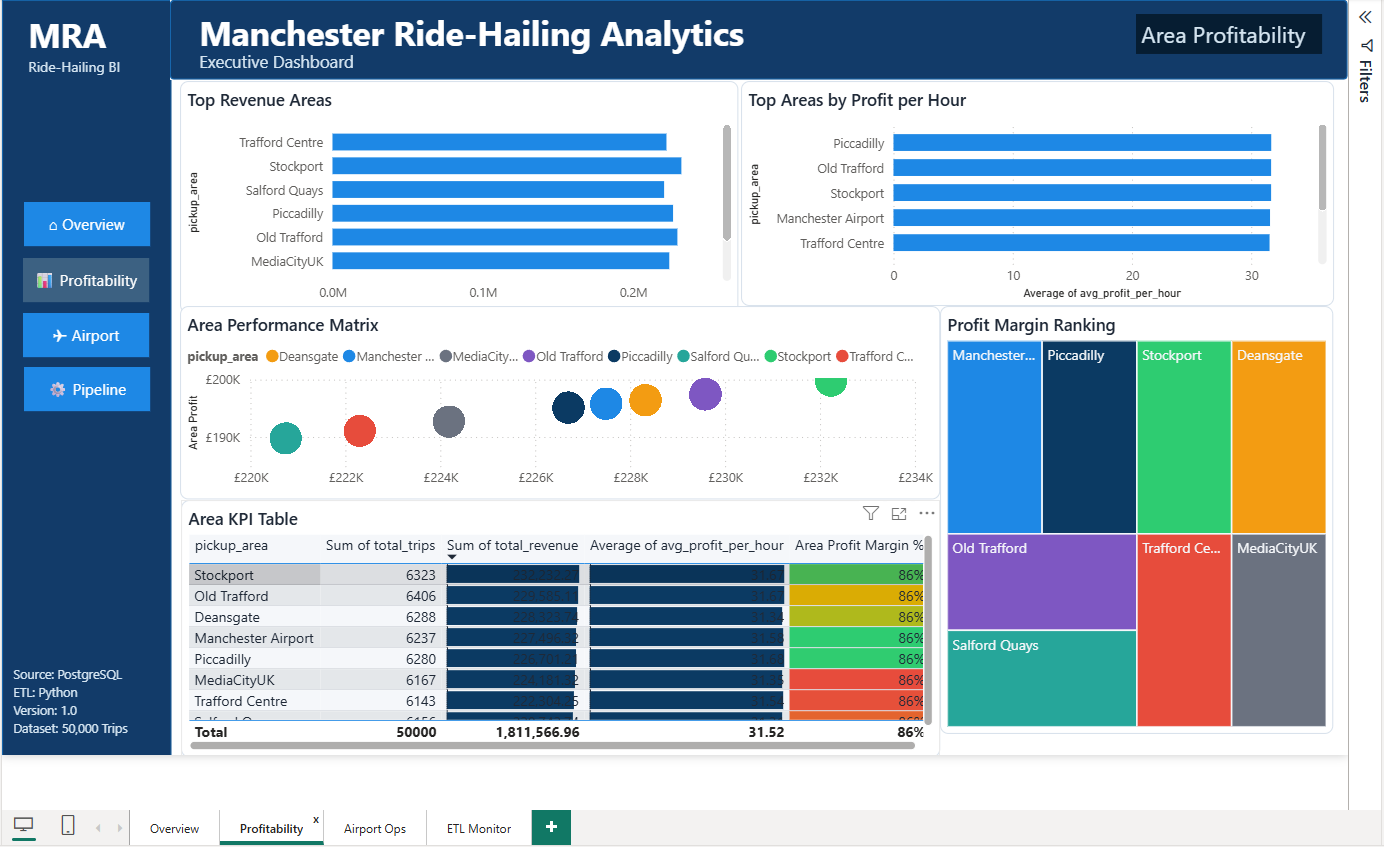

The dashboard page shown, as its layout file describes it:
{"tool":"powerbi","page":{"name":"Profitability","canvas":[1280,720],"ordinal":1},"visuals":[{"type":"shape","title":"Sidebar","box":[-0.3,1.8,161.3,719.5],"z":0,"group":"g1"},{"type":"group","id":"g1","title":"Branding","box":[-0.3,1.8,1280,719.5],"z":0},{"type":"actionButton","title":"Button 4","box":[21.1,350.3,119.5,41.7],"z":0,"group":"g2"},{"type":"shape","title":"Header","box":[159.8,1.8,1119.9,75.6],"z":1000,"group":"g1"},{"type":"group","id":"g2","title":"Navigation","box":[20,193.5,120.7,198.5],"z":1000},{"type":"actionButton","title":"Button 1","box":[21.1,193.5,119.5,41.7],"z":1000,"group":"g2"},{"type":"textbox","title":"Logo","box":[20,7.4,110.5,54.1],"z":2000,"group":"g1"},{"type":"clusteredBarChart","title":"Top Revenue Areas","fields":{"Category":["public vw_area_profitability.pickup_area"],"Y":["Sum(public vw_area_profitability.total_revenue)"]},"box":[169.2,78.9,531.2,221],"z":2000},{"type":"actionButton","title":"Button 2","box":[20,246.5,119.5,41.7],"z":2000,"group":"g2"},{"type":"textbox","title":"Logo Subtitle","box":[20,51.4,110.5,50.7],"z":3000,"group":"g1"},{"type":"clusteredBarChart","title":"Top Areas by Profit per Hour","fields":{"Category":["public vw_area_profitability.pickup_area"],"Y":["Average(public vw_area_profitability.avg_profit_per_hour)"]},"box":[702.6,78.9,563.9,214.3],"z":3000},{"type":"actionButton","title":"Button 3","box":[20,299.5,119.5,41.7],"z":3000,"group":"g2"},{"type":"textbox","title":"Header Title","box":[182.4,5.2,709.4,56.4],"z":4000,"group":"g1"},{"type":"scatterChart","title":"Area Performance Matrix","fields":{"Category":["public vw_daily_performance.total_trips"],"Series":["public vw_area_profitability.pickup_area"],"Size":["public vw_area_profitability.Area Trips"],"X":["public vw_area_profitability.Area Revenue"],"Y":["public vw_area_profitability.Area Profit"]},"box":[169.2,293.2,722.9,183.8],"z":4000},{"type":"textbox","title":"Header Subtitle","box":[182.4,44.7,283.1,32.7],"z":5000,"group":"g1"},{"type":"treemap","title":"Profit Margin Ranking","fields":{"Group":["public vw_area_profitability.pickup_area"],"Values":["public vw_area_profitability.Area Profit Margin %"]},"box":[892.1,293.2,374.4,407.1],"z":5000},{"type":"textbox","box":[1077.8,15.3,177.1,38.3],"z":6000,"group":"g1"},{"type":"tableEx","title":"Area KPI Table","fields":{"Values":["public vw_area_profitability.pickup_area","Sum(public vw_area_profitability.total_trips)","Sum(public vw_area_profitability.total_revenue)","Average(public vw_area_profitability.avg_profit_per_hour)","public vw_area_profitability.Area Profit Margin %"]},"box":[170.3,477,721.8,244.7],"z":6000},{"type":"textbox","box":[5.3,628.8,150,92.5],"z":7000,"group":"g1"}]}

Visuals, with their boxes on the page's 1280x720 design canvas (x1, y1, x2, y2). These are canvas units, not pixel positions in the 1384x847 screenshot, which may show the page scaled, cropped or inside an application window:
"Sidebar" shape: x1=0 y1=2 x2=161 y2=721
"Branding" group: x1=0 y1=2 x2=1280 y2=721
"Button 4" actionButton: x1=21 y1=350 x2=141 y2=392
"Header" shape: x1=160 y1=2 x2=1280 y2=77
"Navigation" group: x1=20 y1=194 x2=141 y2=392
"Button 1" actionButton: x1=21 y1=194 x2=141 y2=235
"Logo" textbox: x1=20 y1=7 x2=130 y2=62
"Top Revenue Areas" clusteredBarChart: x1=169 y1=79 x2=700 y2=300
"Button 2" actionButton: x1=20 y1=246 x2=140 y2=288
"Logo Subtitle" textbox: x1=20 y1=51 x2=130 y2=102
"Top Areas by Profit per Hour" clusteredBarChart: x1=703 y1=79 x2=1266 y2=293
"Button 3" actionButton: x1=20 y1=300 x2=140 y2=341
"Header Title" textbox: x1=182 y1=5 x2=892 y2=62
"Area Performance Matrix" scatterChart: x1=169 y1=293 x2=892 y2=477
"Header Subtitle" textbox: x1=182 y1=45 x2=466 y2=77
"Profit Margin Ranking" treemap: x1=892 y1=293 x2=1266 y2=700
textbox: x1=1078 y1=15 x2=1255 y2=54
"Area KPI Table" tableEx: x1=170 y1=477 x2=892 y2=722
textbox: x1=5 y1=629 x2=155 y2=721
